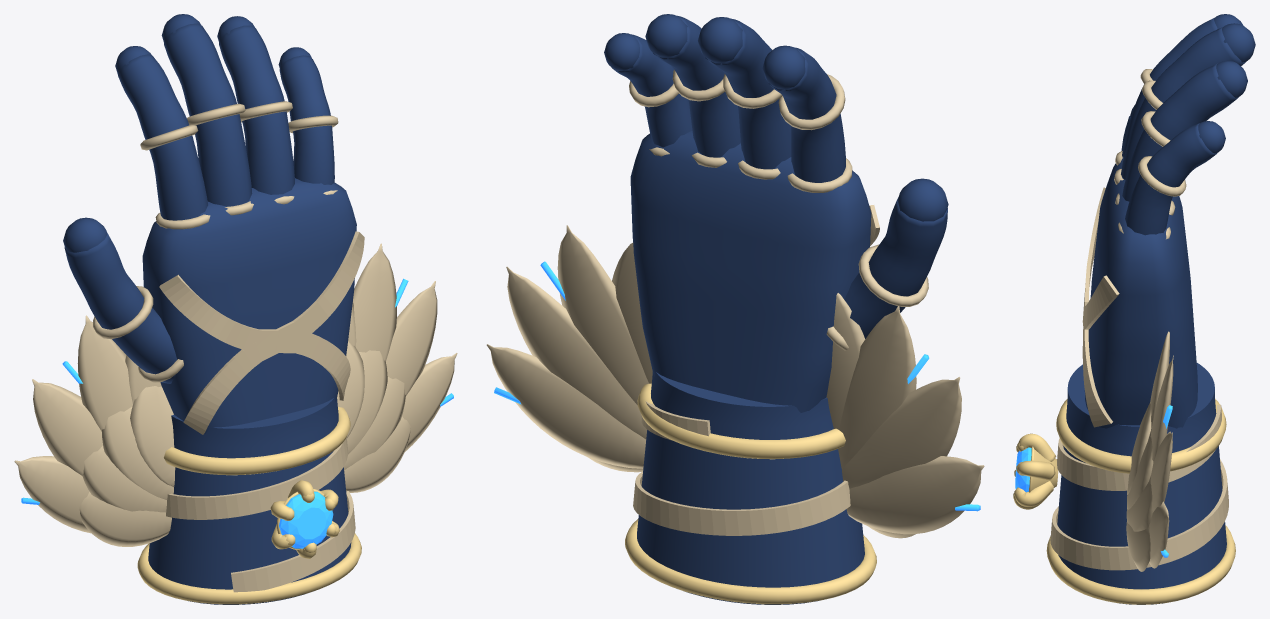
Rendered from gloves_haste_rare.glb.
The picture shows the model from 3 angles, left to right: view 1: azimuth 30°, elevation 25°; view 2: azimuth 150°, elevation 25°; view 3: azimuth 270°, elevation 25°; orthographic projection. The views are drawn at different scales.
Visible parts, largest first — view 1: gloves_haste_rare; view 2: gloves_haste_rare; view 3: gloves_haste_rare.
Boxes of the visible parts, x1=… form: gloves_haste_rare: x1=14, y1=14, x2=457, y2=604; gloves_haste_rare: x1=486, y1=14, x2=984, y2=604; gloves_haste_rare: x1=1013, y1=14, x2=1255, y2=604.
Size of the model in its own units: 2.18 by 2.45 by 1.03.
